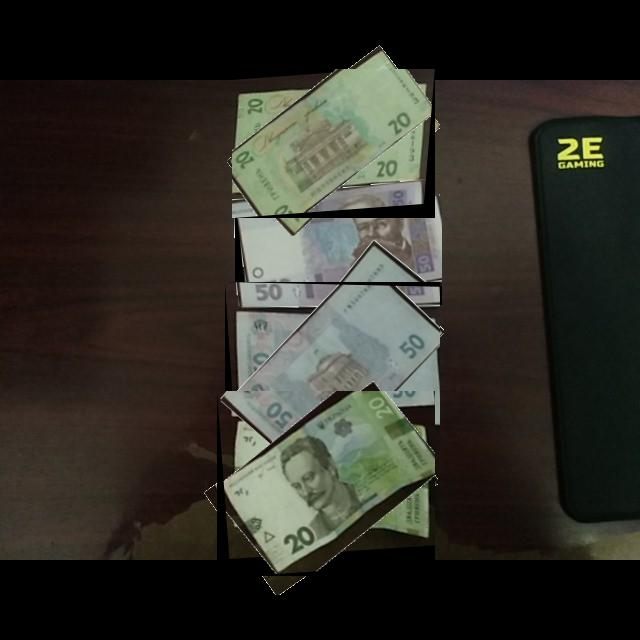20uah: (223, 391, 436, 576), (232, 69, 436, 219)
50uah: (225, 282, 441, 450), (235, 196, 443, 306)
